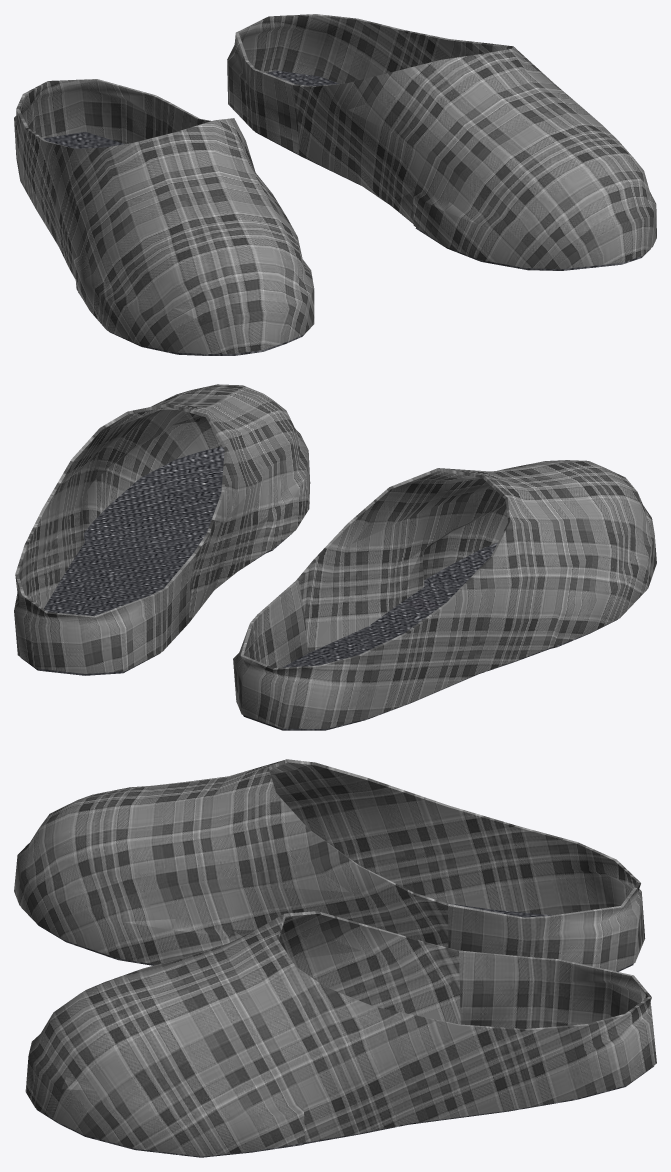
The model's file is slippers.FBX.
The picture shows the model from 3 angles, top to bottom: view 1: azimuth 30°, elevation 25°; view 2: azimuth 150°, elevation 25°; view 3: azimuth 270°, elevation 25°; orthographic projection. The views are drawn at different scales.
Visible parts, largest first — view 1: right slipper, left slipper; view 2: left slipper, right slipper; view 3: right slipper, left slipper.
Part boxes in pixels (<box>): right slipper: <box>227,14,656,270</box>; left slipper: <box>14,79,314,355</box>; left slipper: <box>233,460,656,730</box>; right slipper: <box>14,384,310,675</box>; right slipper: <box>25,911,656,1157</box>; left slipper: <box>14,759,645,971</box>.
Bounding box in the file's own units: 28.48 × 27.52 × 8.07.
Materials: 1 (1 with a texture image).
